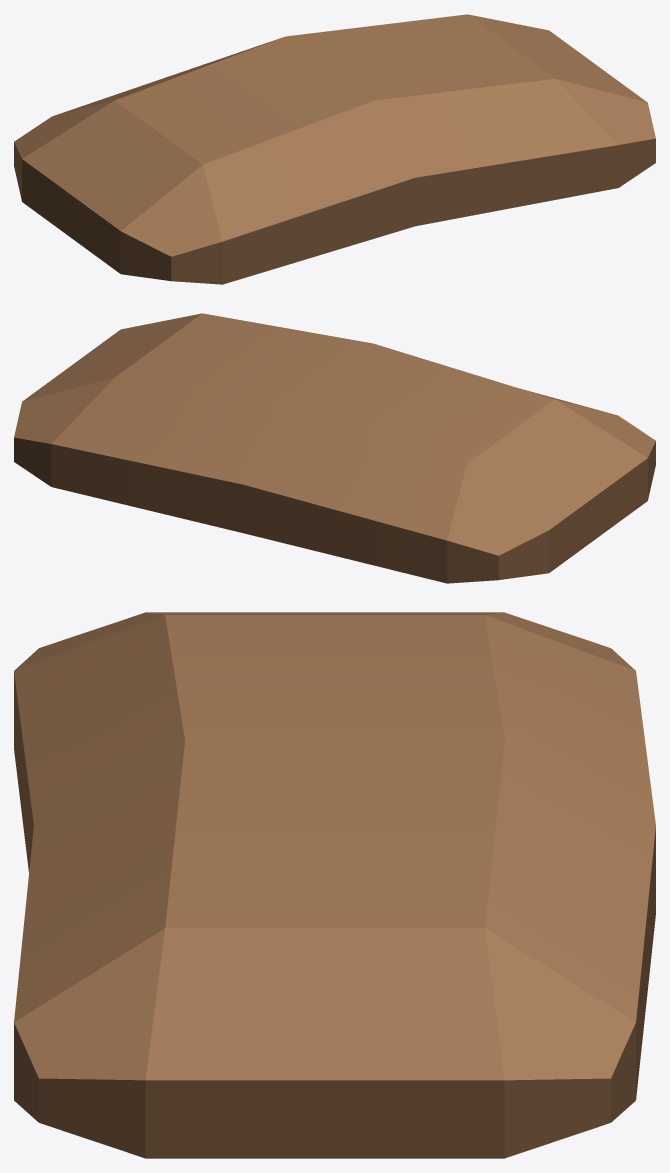
File: SM_Prop_Sack_01.fbx
The picture shows the model from 3 angles, top to bottom: view 1: azimuth 30°, elevation 25°; view 2: azimuth 150°, elevation 25°; view 3: azimuth 270°, elevation 25°; orthographic projection. The views are drawn at different scales.
Parts seen in each view (by area): view 1: SM_Prop_Sack_01; view 2: SM_Prop_Sack_01; view 3: SM_Prop_Sack_01.
Boxes of the visible parts, left/top/right/bottom form: SM_Prop_Sack_01: left=14, top=14, right=655, bottom=284; SM_Prop_Sack_01: left=14, top=313, right=655, bottom=583; SM_Prop_Sack_01: left=14, top=612, right=655, bottom=1158.
Bounding box in the file's own units: 0.0104 × 0.00238 × 0.00602.
Materials: 1 (1 with a texture image).
